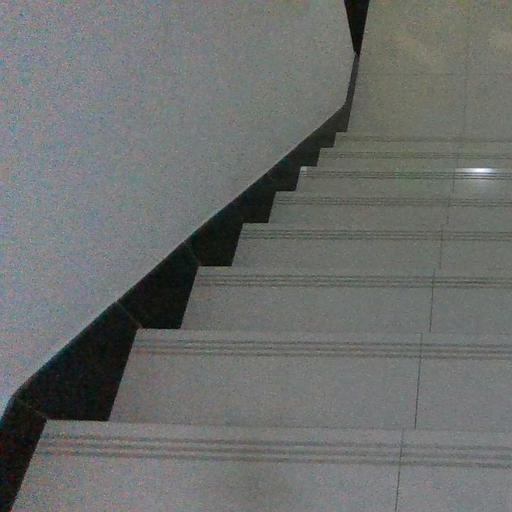Stairs: (17, 131, 512, 512)
